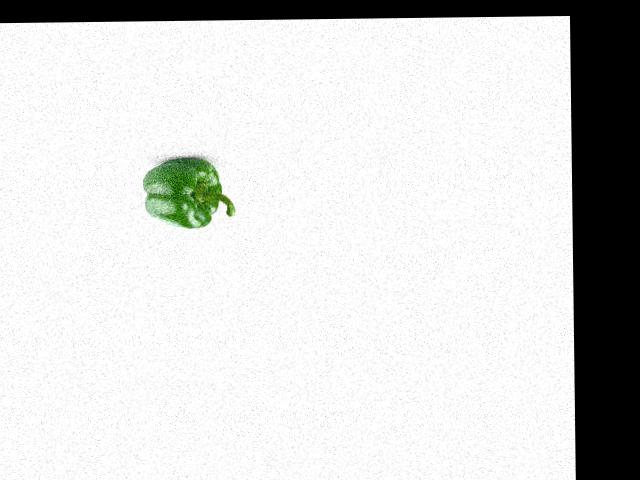bell_pepper: (140, 158, 237, 230)
